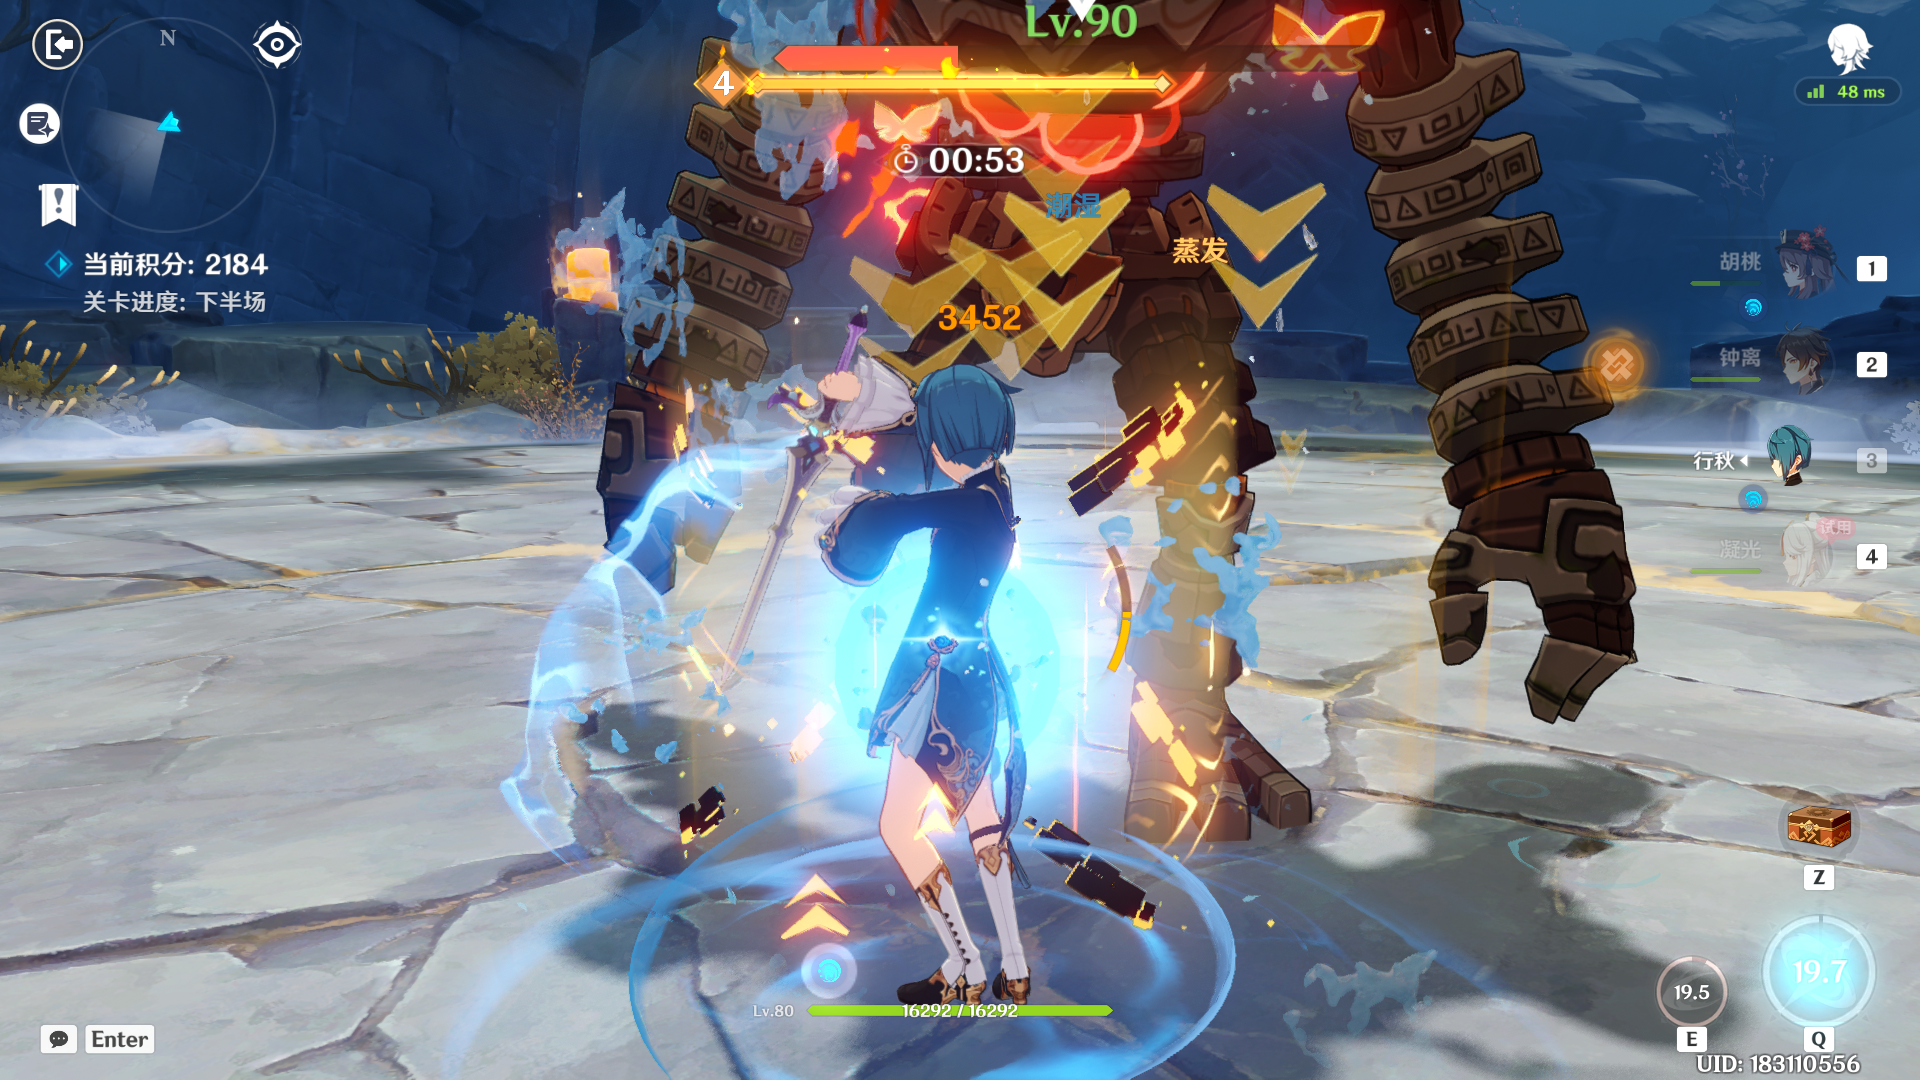character: (791, 349, 1113, 1063)
